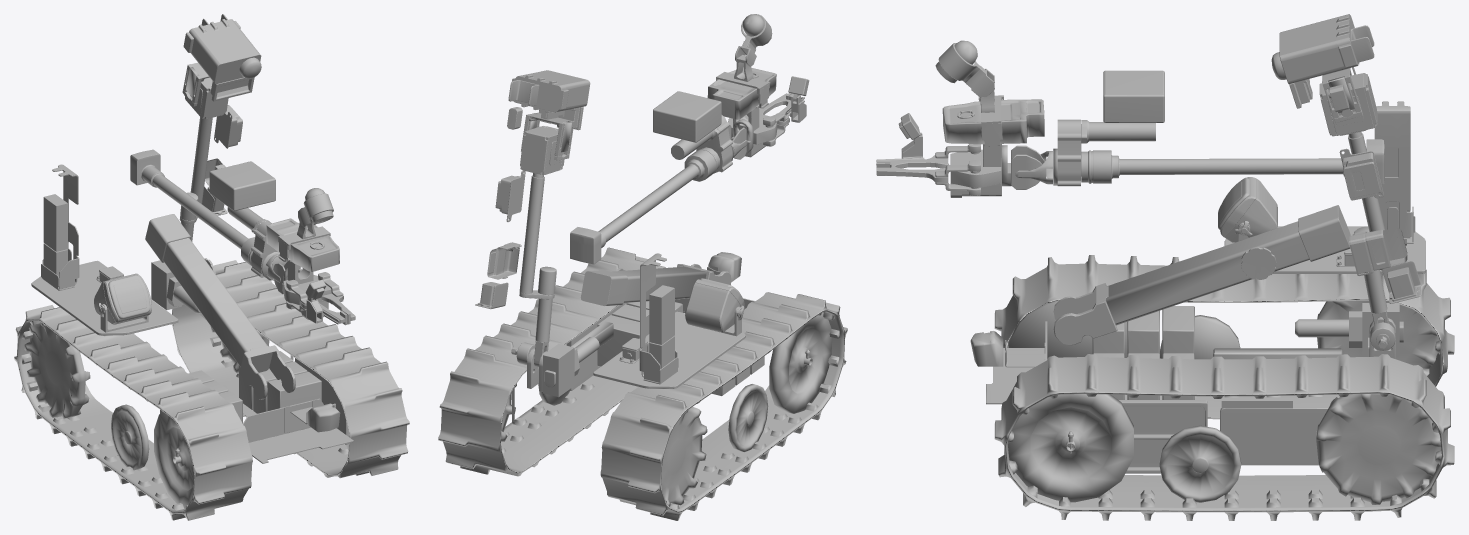
The picture shows the model from 3 angles, left to right: view 1: azimuth 30°, elevation 25°; view 2: azimuth 150°, elevation 25°; view 3: azimuth 270°, elevation 25°; orthographic projection. The views are drawn at different scales.
Parts seen in each view (by area): view 1: Geo_Treds, Geo_radioPlatform, Geo_upperArm, Geo_barSupports, Geo_sideArm, Geo_upperCamera, Geo_frontRig, Geo_batteries, Geo_jcad, Geo_firstDefender, Geo_front_sensors, Geo_lowerArea (+1 smaller); view 2: Geo_Treds, Geo_radioPlatform, Geo_upperArm, Geo_sideArm, Geo_barSupports, Geo_upperCamera, Geo_jcad, Geo_batteries, Geo_firstDefender, Geo_sideCameraMount, Geo_lowerArea, Geo_UDR_14 (+2 smaller); view 3: Geo_Treds, Geo_upperArm, Geo_barSupports, Geo_sideArm, Geo_lowerArea, Geo_radioPlatform, Geo_upperCamera, Geo_batteries, Geo_firstDefender, Geo_jcad, Geo_frontRig, Geo_thermostat (+4 smaller).
Part boxes in pixels (<box>): Geo_Treds: <box>14,260,409,520</box>; Geo_radioPlatform: <box>31,164,178,335</box>; Geo_upperArm: <box>130,149,355,325</box>; Geo_barSupports: <box>145,214,295,399</box>; Geo_sideArm: <box>151,77,232,319</box>; Geo_upperCamera: <box>183,14,261,101</box>; Geo_frontRig: <box>243,398,353,463</box>; Geo_batteries: <box>160,351,321,423</box>; Geo_jcad: <box>209,161,275,210</box>; Geo_firstDefender: <box>266,218,339,271</box>; Geo_front_sensors: <box>307,403,340,432</box>; Geo_lowerArea: <box>290,355,348,444</box>; Geo_Treds: <box>438,247,847,520</box>; Geo_radioPlatform: <box>593,253,745,388</box>; Geo_upperArm: <box>570,14,809,264</box>; Geo_sideArm: <box>475,126,613,397</box>; Geo_barSupports: <box>580,264,731,306</box>; Geo_upperCamera: <box>508,70,590,130</box>; Geo_jcad: <box>653,91,721,142</box>; Geo_batteries: <box>597,301,764,396</box>; Geo_firstDefender: <box>707,67,776,119</box>; Geo_sideCameraMount: <box>507,107,574,160</box>; Geo_lowerArea: <box>512,303,624,424</box>; Geo_UDR_14: <box>487,247,519,279</box>; Geo_Treds: <box>994,255,1454,520</box>; Geo_upperArm: <box>876,40,1384,197</box>; Geo_barSupports: <box>1053,205,1350,345</box>; Geo_sideArm: <box>1213,73,1421,359</box>; Geo_lowerArea: <box>1119,397,1328,473</box>; Geo_radioPlatform: <box>1218,101,1425,273</box>; Geo_upperCamera: <box>1271,14,1374,108</box>; Geo_batteries: <box>1092,306,1194,399</box>; Geo_firstDefender: <box>942,99,1044,144</box>; Geo_jcad: <box>1103,70,1164,122</box>; Geo_frontRig: <box>986,321,1047,404</box>; Geo_thermostat: <box>1342,152,1381,200</box>.
Size of the model in its own units: 7.84 by 13.27 by 14.96.
1 material, 1 textured.
